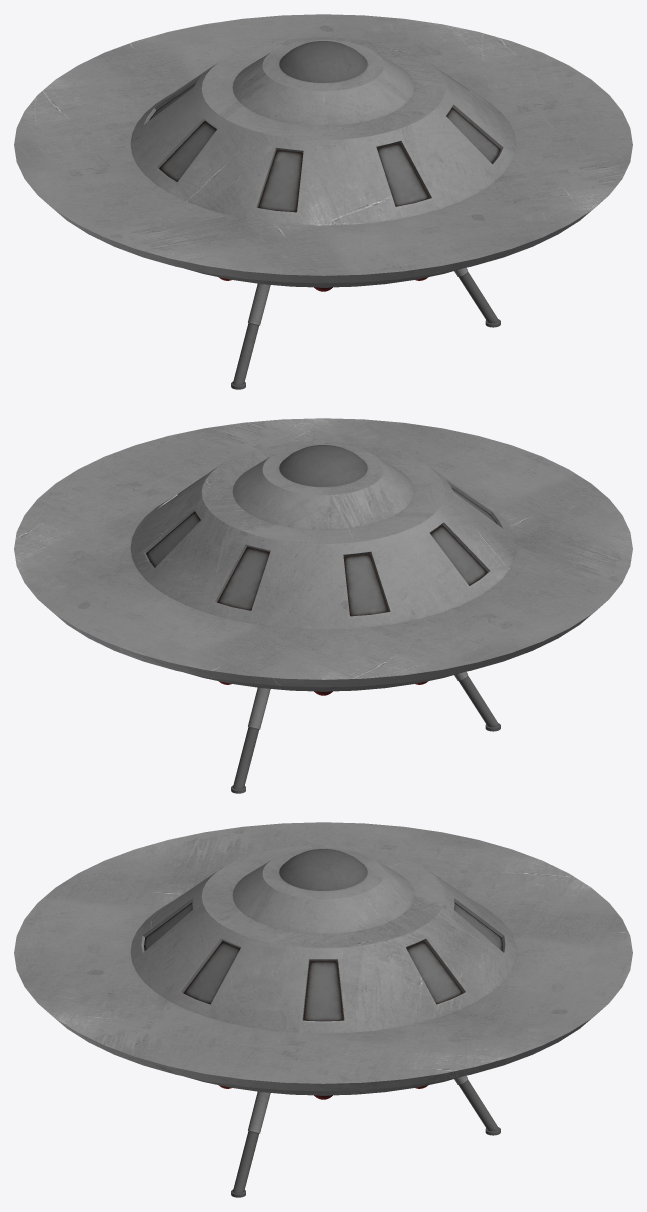
The model's file is mothership.glb.
The picture shows the model from 3 angles, top to bottom: view 1: azimuth 30°, elevation 25°; view 2: azimuth 150°, elevation 25°; view 3: azimuth 270°, elevation 25°; orthographic projection.
Parts seen in each view (by area): view 1: Test; view 2: Test; view 3: Test.
Boxes of the visible parts, x1,y1,x2,y2 form: Test: [14, 14, 632, 389]; Test: [14, 418, 632, 793]; Test: [14, 822, 632, 1197].
Size of the model in its own units: 49.85 by 24.51 by 49.85.
Materials: 1 (1 with a texture image).
